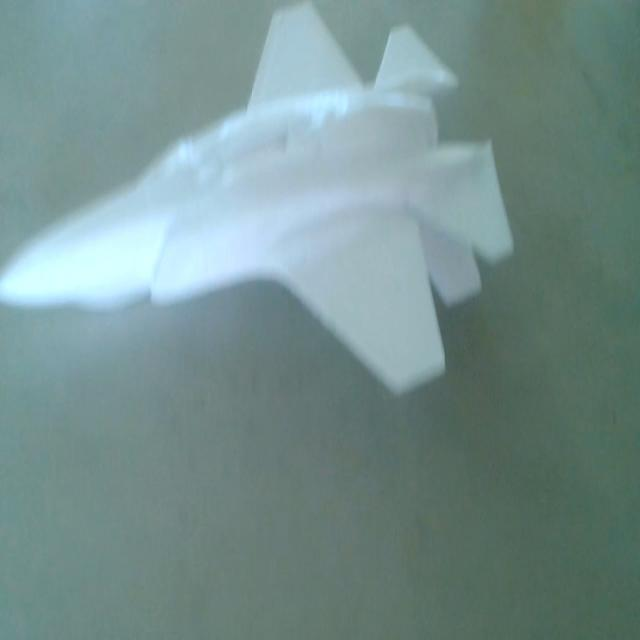Jet: (0, 6, 516, 415)
